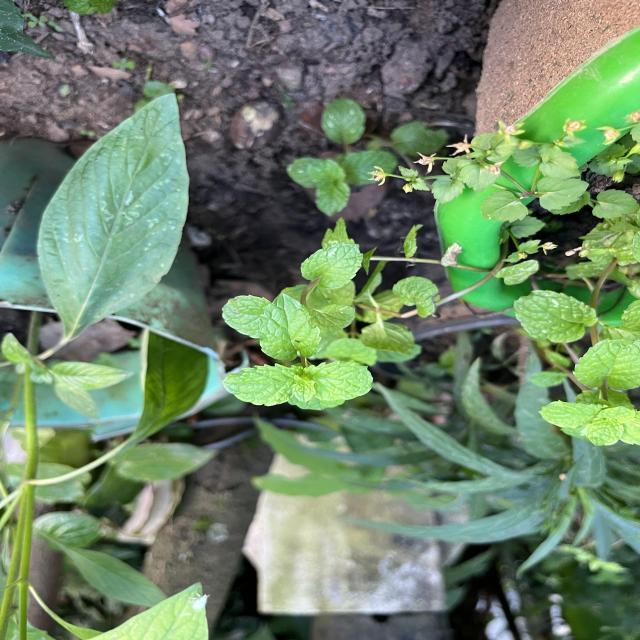Mentha spicata: (256, 294, 322, 362), (572, 337, 640, 392), (222, 362, 298, 408), (301, 242, 365, 290), (308, 360, 374, 402)
